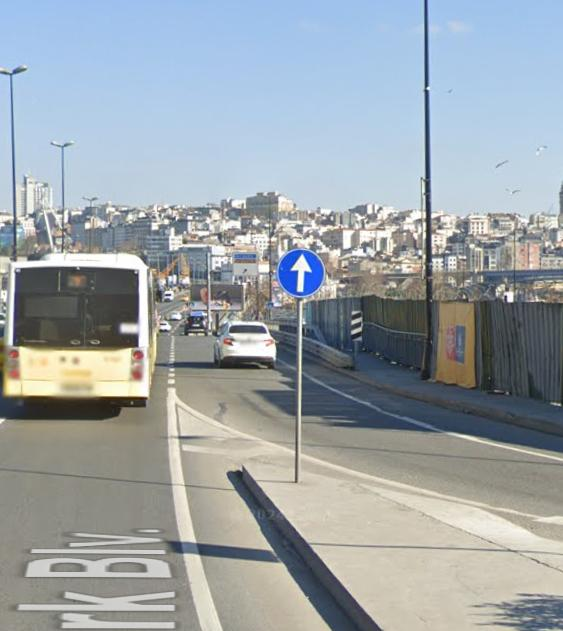forward: (280, 250, 322, 297)
